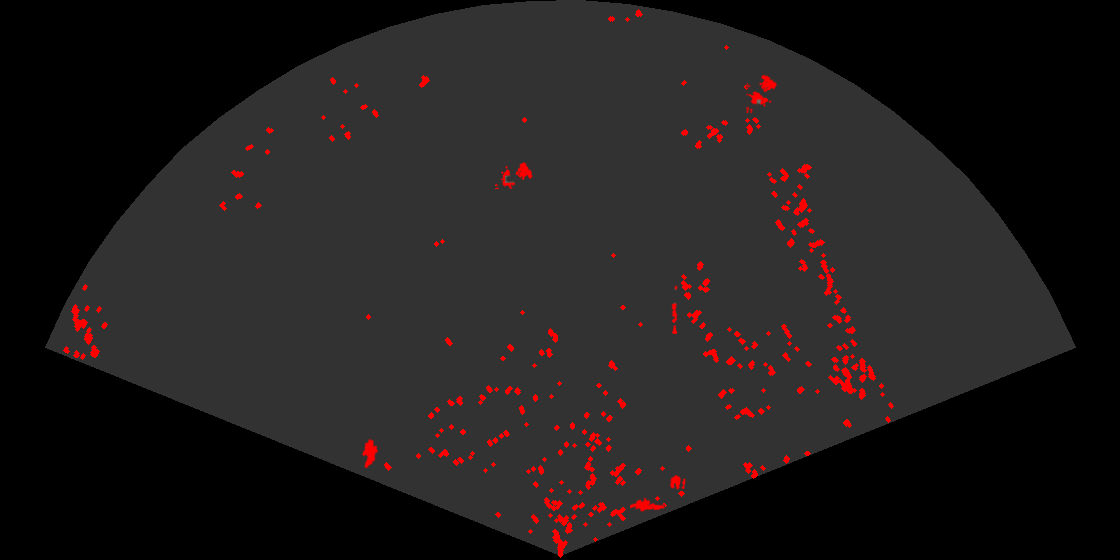AUV: (361, 437, 380, 470)
ball: (668, 474, 687, 491)
cage: (746, 73, 778, 113), (495, 161, 534, 189)
chain: (670, 284, 679, 334)
frogman: (630, 496, 665, 513)
